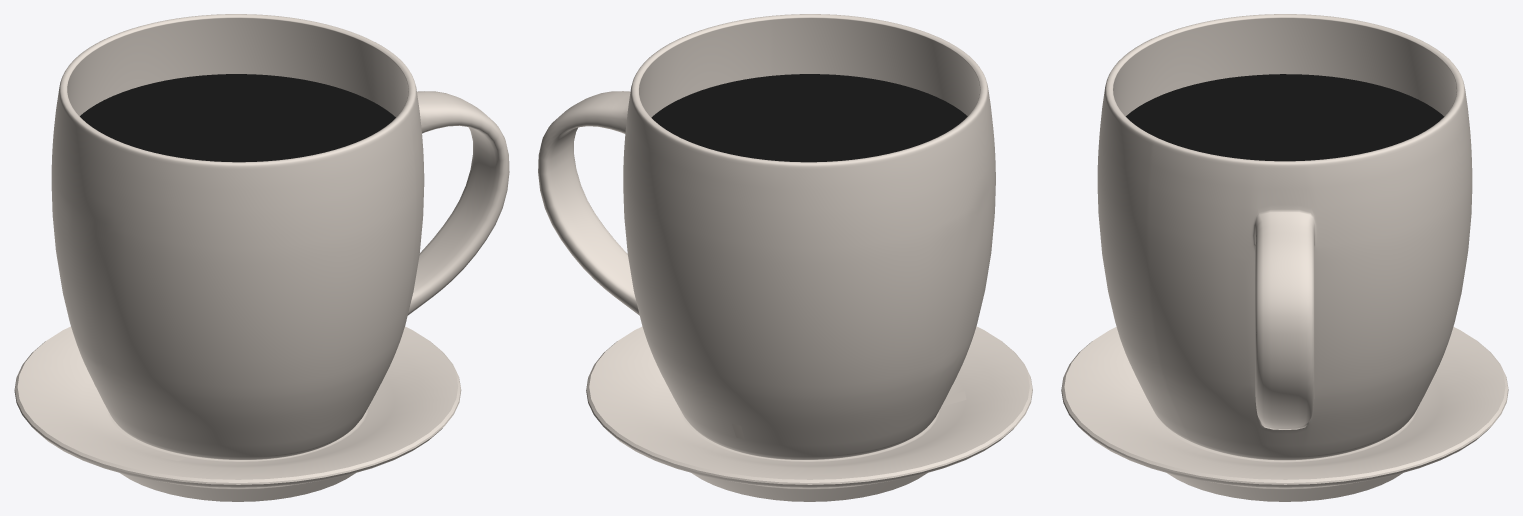
Rendered from kaffekoppfraadobe_.glb.
The picture shows the model from 3 angles, left to right: view 1: azimuth 30°, elevation 25°; view 2: azimuth 150°, elevation 25°; view 3: azimuth 270°, elevation 25°; orthographic projection.
Parts seen in each view (by area): view 1: full_round_coffee_cup_with_saucer; view 2: full_round_coffee_cup_with_saucer; view 3: full_round_coffee_cup_with_saucer.
Part boxes in pixels (x1,y1,x2,y2): full_round_coffee_cup_with_saucer: (14, 14, 509, 501); full_round_coffee_cup_with_saucer: (538, 14, 1032, 501); full_round_coffee_cup_with_saucer: (1061, 14, 1508, 501).
Bounding box in the file's own units: 13.75 × 10.29 × 11.7.
3 materials, 3 textured.
